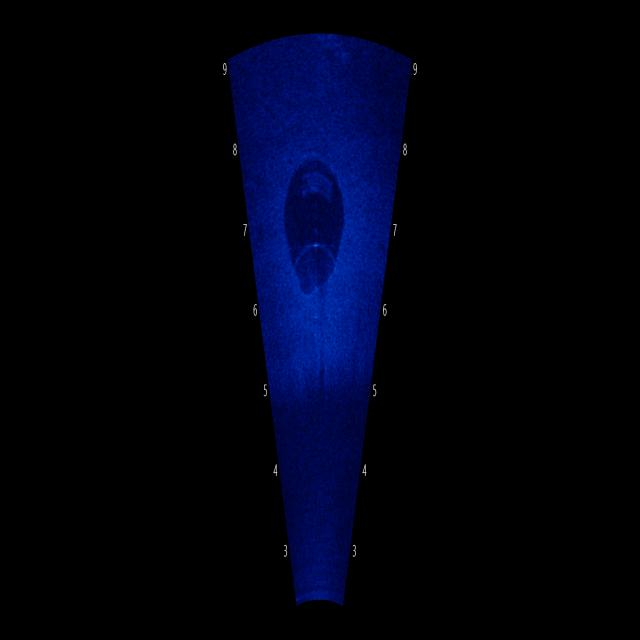circle: (277, 131, 350, 295)
